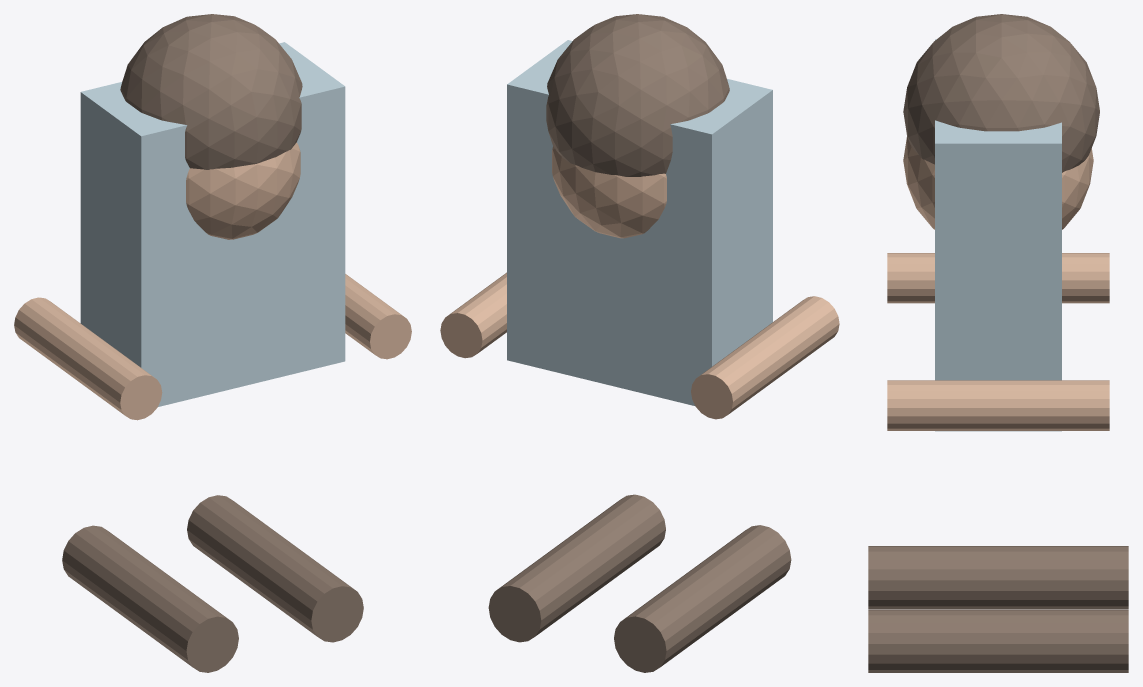
The model's file is sim_elder_athletic.glb.
3 views of the same model, side by side, from view 1: azimuth 30°, elevation 25°; view 2: azimuth 150°, elevation 25°; view 3: azimuth 270°, elevation 25° (orthographic). The views are drawn at different scales.
Parts seen in each view (by area): view 1: part_00, part_06, part_02, part_03, part_04, part_01, part_05; view 2: part_00, part_06, part_02, part_03, part_04, part_01, part_05; view 3: part_00, part_06, part_02, part_03, part_05, part_04, part_01.
Boxes of the visible parts, x1,y1,x2,y2 form: part_00: (80, 42, 345, 406); part_06: (120, 14, 302, 169); part_02: (62, 525, 238, 672); part_03: (187, 495, 363, 642); part_04: (14, 297, 162, 420); part_01: (186, 142, 300, 239); part_05: (345, 274, 411, 359); part_00: (507, 40, 772, 405); part_06: (546, 14, 729, 176); part_02: (614, 525, 791, 672); part_03: (488, 494, 665, 642); part_04: (691, 296, 839, 419); part_01: (552, 146, 666, 238); part_05: (440, 272, 506, 358); part_00: (935, 39, 1061, 431); part_06: (903, 14, 1099, 172); part_02: (868, 546, 1128, 609); part_03: (868, 609, 1128, 672); part_05: (887, 380, 1109, 430); part_04: (887, 253, 1109, 303); part_01: (903, 136, 1093, 229).
Bounding box in the file's own units: 1.09 × 2.1 × 0.8036.
